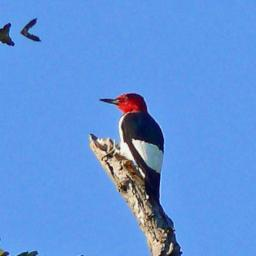Woodpecker: (88, 76, 193, 238)
